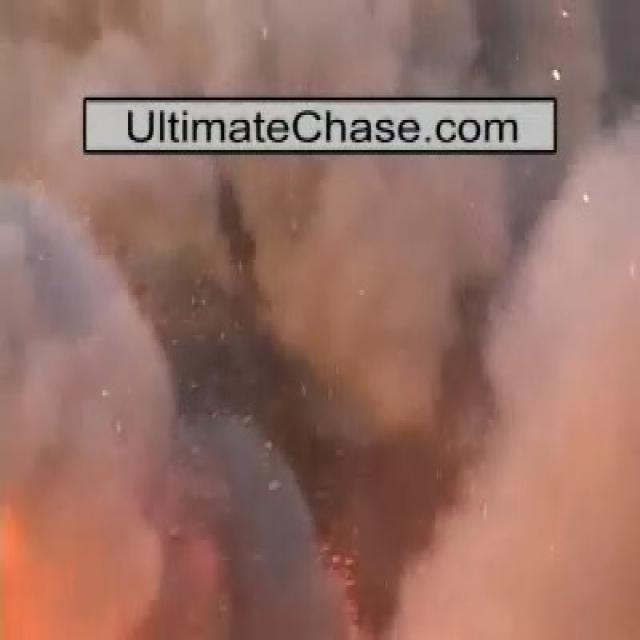smoke: (41, 163, 600, 600), (82, 2, 533, 93)
